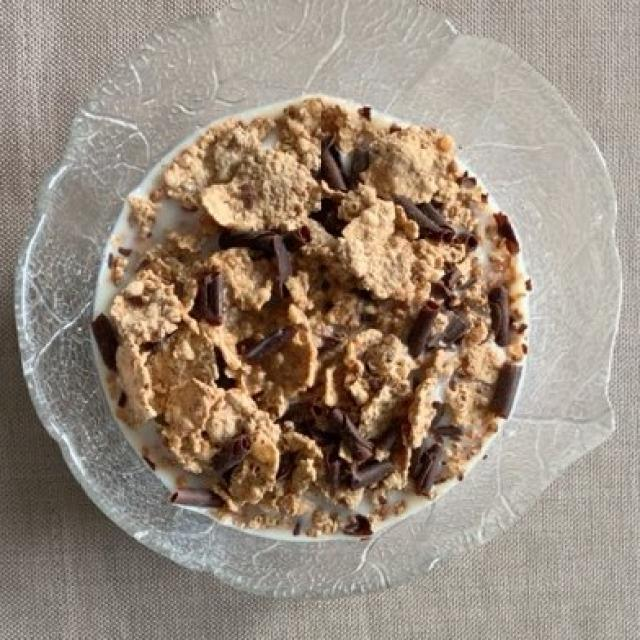corn-flakes: (102, 101, 520, 534)
